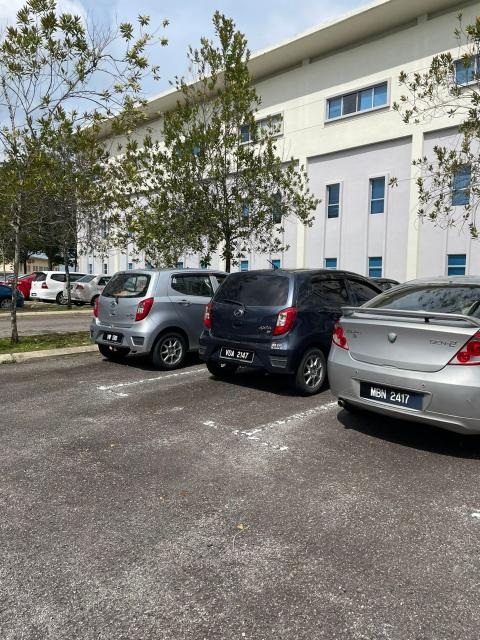License_Plate: (361, 377, 419, 410), (216, 341, 260, 370), (101, 329, 132, 343)
car: (203, 266, 401, 398), (331, 279, 480, 438), (94, 265, 233, 371)
